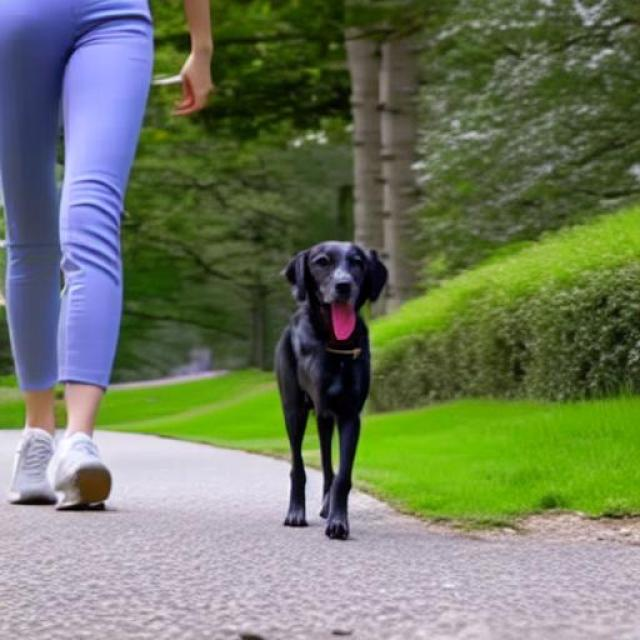Unleashed_Dog: (0, 0, 390, 541)
